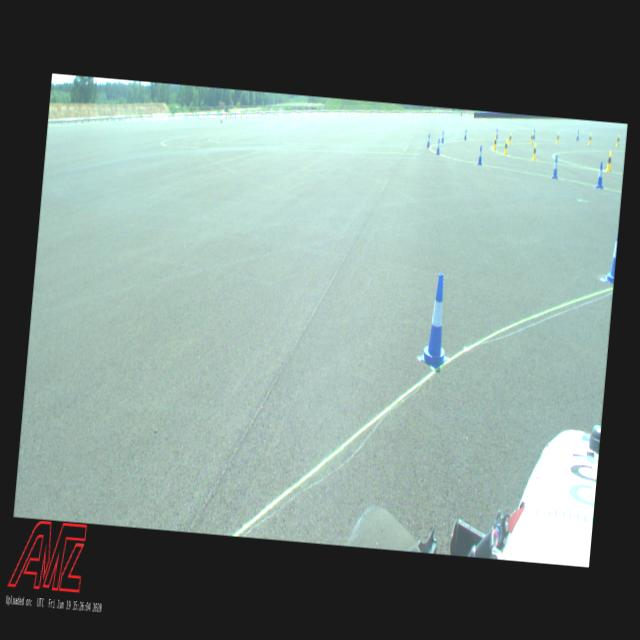blue_cone: (419, 272, 454, 368), (604, 226, 618, 284), (594, 162, 604, 188), (550, 155, 560, 179), (477, 145, 483, 165), (426, 134, 431, 148), (436, 138, 440, 154), (463, 128, 468, 140), (440, 130, 444, 143), (575, 130, 579, 140), (532, 128, 535, 140), (496, 128, 498, 138)
yellow_cone: (605, 151, 613, 171), (532, 142, 538, 160), (492, 136, 498, 150), (503, 138, 508, 154), (587, 133, 592, 145), (508, 132, 512, 145), (556, 131, 560, 143), (616, 134, 620, 146), (530, 132, 532, 142)
